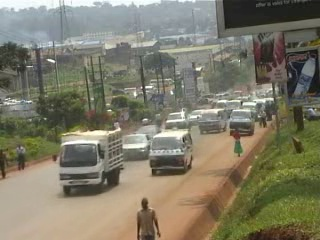Car: (123, 131, 152, 160), (164, 110, 192, 131), (137, 122, 164, 137), (188, 107, 207, 128)
Motorcycle: (154, 112, 162, 128)
